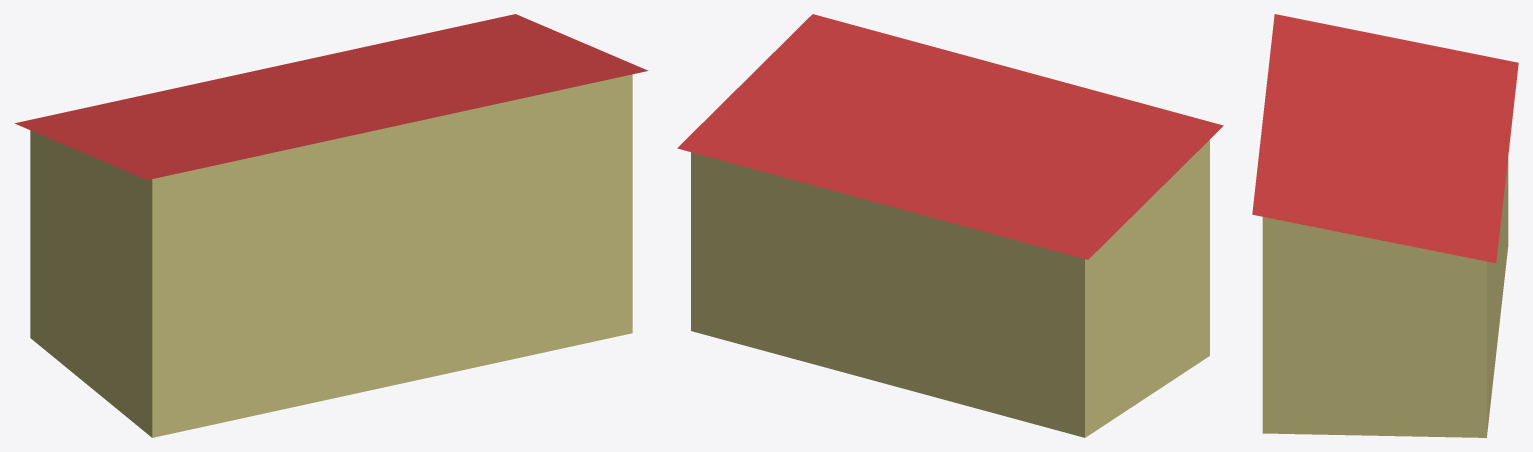
The picture shows the model from 3 angles, left to right: view 1: azimuth 30°, elevation 25°; view 2: azimuth 150°, elevation 25°; view 3: azimuth 270°, elevation 25°; orthographic projection. The views are drawn at different scales.
Size of the model in its own units: 12.23 by 6.7 by 6.18.
